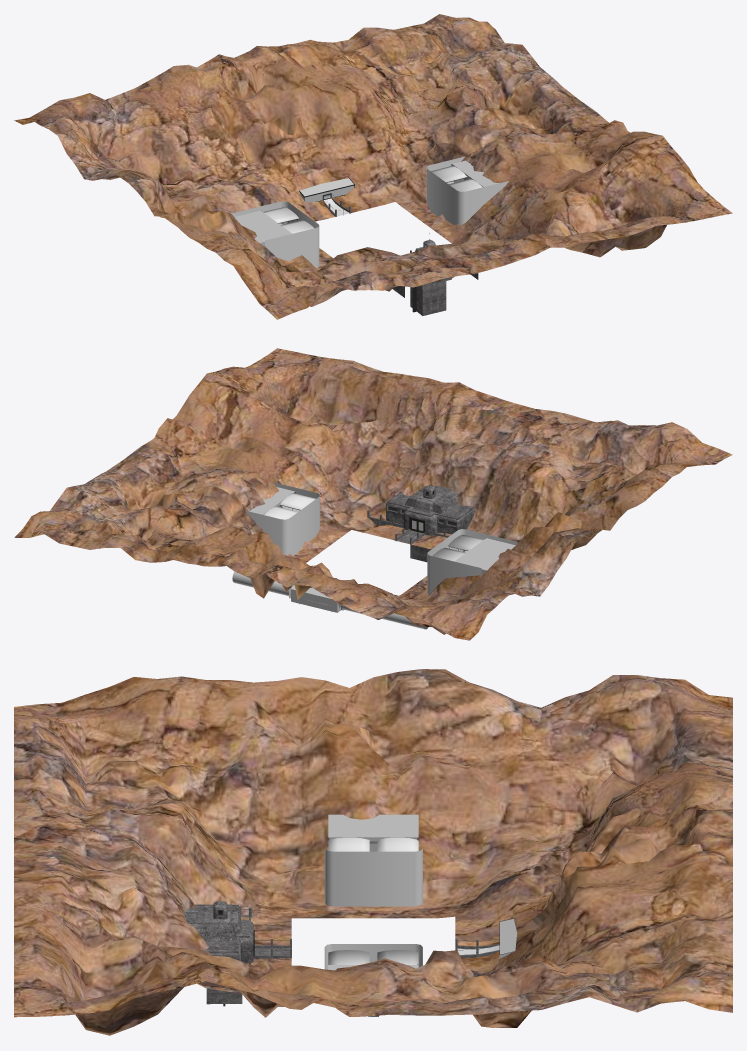
Rendered from Landscape.fbx.
3 views of the same model, one above another, from view 1: azimuth 30°, elevation 25°; view 2: azimuth 150°, elevation 25°; view 3: azimuth 270°, elevation 25° (orthographic). The views are drawn at different scales.
Visible parts, largest first — view 1: Landscape.003, Plane.008, Cube.005, Cube.010, Cube.050, Cube.007, Cube.011, Cube.008; view 2: Landscape.003, Plane.008, Cube.005, Cube.010, Cube.050, Cube.007, Cube.011, Cube.008; view 3: Landscape.003, Plane.008, Cube.005, Cube.010, Cube.011, Cube.007.
Part boxes in pixels (x1,y1,x2,y2): Landscape.003: (14,14,732,319); Plane.008: (231,156,508,268); Cube.005: (322,195,478,315); Cube.010: (234,210,291,246); Cube.050: (300,178,354,202); Cube.007: (431,166,482,191); Cube.011: (263,207,313,233); Cube.008: (447,160,498,187); Landscape.003: (14,348,732,640); Plane.008: (245,482,517,594); Cube.005: (336,478,476,578); Cube.010: (454,538,515,574); Cube.050: (289,585,341,612); Cube.007: (264,493,315,519); Cube.011: (432,534,483,561); Cube.008: (249,487,299,514); Landscape.003: (14,669,732,1035); Plane.008: (324,848,422,969); Cube.005: (184,901,499,1006); Cube.010: (328,814,418,851); Cube.011: (328,837,418,851); Cube.007: (328,950,418,964).
Size of the model in its own units: 484 by 130 by 484.
